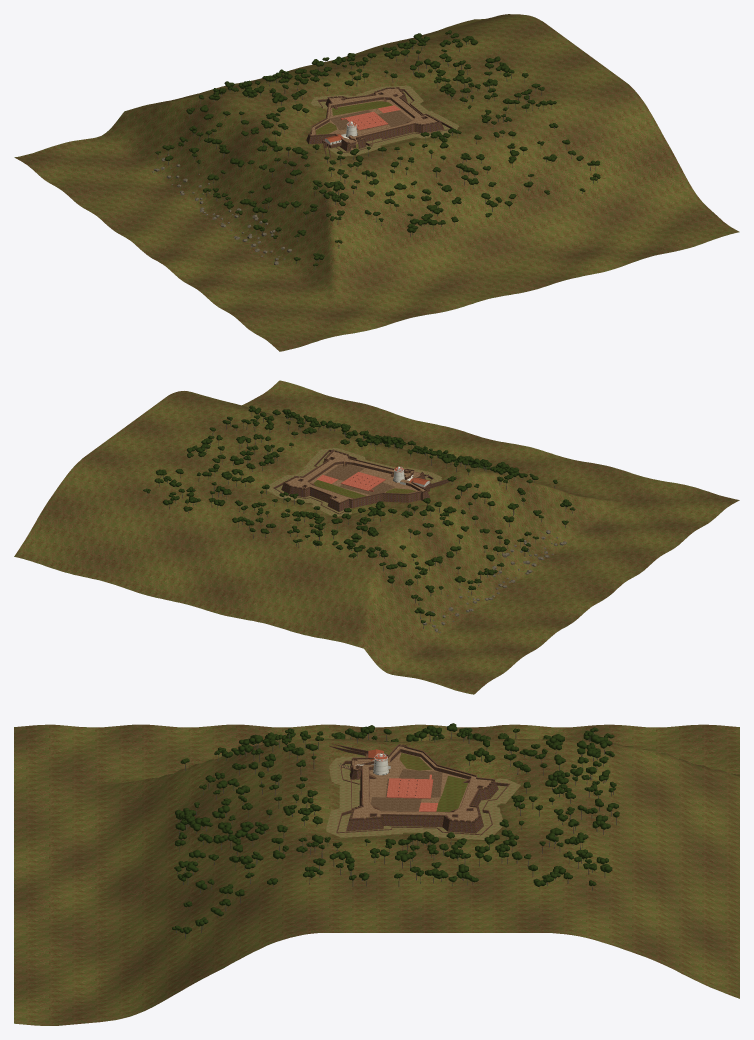
Rendered from fort-aguada.glb.
The picture shows the model from 3 angles, top to bottom: view 1: azimuth 30°, elevation 25°; view 2: azimuth 150°, elevation 25°; view 3: azimuth 270°, elevation 25°; orthographic projection. The views are drawn at different scales.
Parts seen in each view (by area): view 1: Aguada headland terrain, Dense coastal woodland canopy, Coastal woodland trunks, Outer fort visitor path, Battered outer laterite curtain walls, Continuous rampart and broad bastion platforms, Rocky shoreline, Traced areas of weathered courtyard paving, Courtyard earth and paving; view 2: Aguada headland terrain, Dense coastal woodland canopy, Coastal woodland trunks, Battered outer laterite curtain walls, Outer fort visitor path, Continuous rampart and broad bastion platforms, Rocky shoreline, Traced areas of weathered courtyard paving, Courtyard earth and paving; view 3: Aguada headland terrain, Dense coastal woodland canopy, Outer fort visitor path, Battered outer laterite curtain walls, Continuous rampart and broad bastion platforms, Coastal woodland trunks, Traced areas of weathered courtyard paving, Courtyard earth and paving, Dry moat bed, Rainwater cistern roof, Courtyard grass and bare earth, Moat outer coping.
Boxes of the visible parts, x1,y1,x2,y2 form: Aguada headland terrain: [14, 14, 739, 351]; Dense coastal woodland canopy: [155, 30, 600, 266]; Coastal woodland trunks: [157, 34, 597, 269]; Outer fort visitor path: [311, 85, 459, 156]; Battered outer laterite curtain walls: [306, 93, 444, 151]; Continuous rampart and broad bastion platforms: [311, 88, 436, 143]; Rocky shoreline: [152, 154, 291, 264]; Traced areas of weathered courtyard paving: [330, 110, 411, 130]; Courtyard earth and paving: [315, 99, 413, 145]; Aguada headland terrain: [14, 380, 739, 694]; Dense coastal woodland canopy: [143, 405, 575, 623]; Coastal woodland trunks: [147, 412, 572, 628]; Battered outer laterite curtain walls: [281, 459, 430, 511]; Outer fort visitor path: [265, 448, 441, 516]; Continuous rampart and broad bastion platforms: [286, 451, 425, 502]; Rocky shoreline: [420, 530, 566, 632]; Traced areas of weathered courtyard paving: [324, 464, 394, 494]; Courtyard earth and paving: [309, 464, 417, 495]; Aguada headland terrain: [14, 724, 739, 1025]; Dense coastal woodland canopy: [172, 723, 619, 933]; Outer fort visitor path: [326, 756, 520, 839]; Battered outer laterite curtain walls: [346, 761, 498, 833]; Continuous rampart and broad bastion platforms: [352, 746, 491, 821]; Coastal woodland trunks: [176, 731, 616, 938]; Traced areas of weathered courtyard paving: [371, 769, 442, 811]; Courtyard earth and paving: [369, 752, 468, 808]; Dry moat bed: [337, 764, 506, 834]; Rainwater cistern roof: [386, 778, 433, 798]; Courtyard grass and bare earth: [436, 775, 467, 811]; Moat outer coping: [336, 760, 509, 835].
Bounding box in the file's own units: 560 × 96.59 × 560.
Materials: 16 (9 with a texture image).
